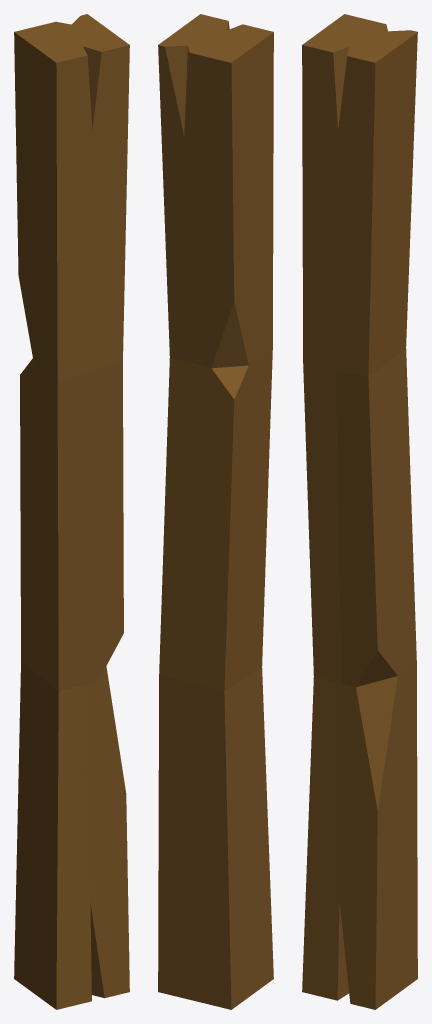
File: wooden_plank.fbx
3 views of the same model, side by side, from view 1: azimuth 30°, elevation 25°; view 2: azimuth 150°, elevation 25°; view 3: azimuth 330°, elevation 25° (orthographic).
Visible parts, largest first — view 1: Cube.053; view 2: Cube.053; view 3: Cube.053.
Part boxes in pixels (<box>): Cube.053: <box>14,14,129,1009</box>; Cube.053: <box>158,14,273,1009</box>; Cube.053: <box>302,14,417,1009</box>.
Bounding box in the file's own units: 24.23 × 299 × 24.28.
